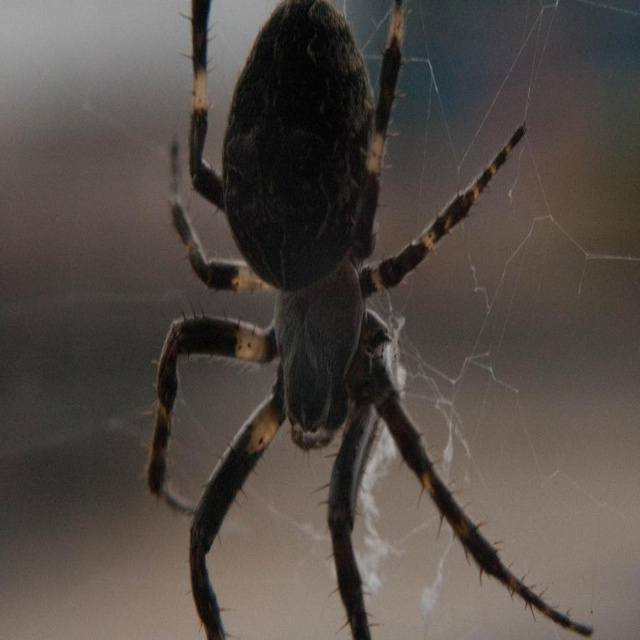Spider: (146, 0, 593, 640)
